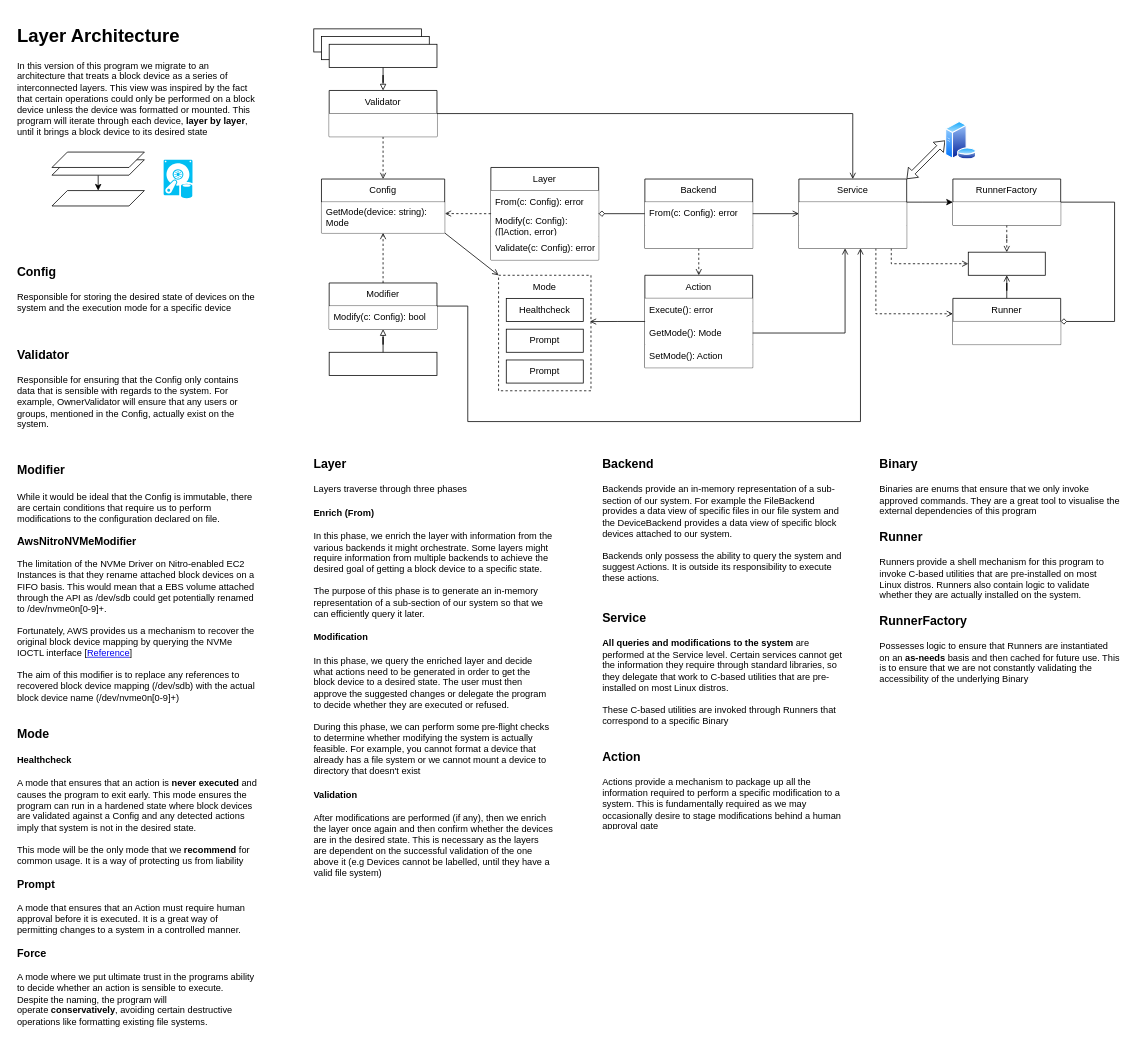
This 1135x1058 diagram has some shape labels left out. Here are the shapes that lost their labels. From the top down, the centre of each, then its label:
At (382,55): "OwnerValidator".
At (383,124): "Validate(c: Config): bool".
At (97,159): "Format".
At (97,198): "Change Owner".
At (852,213): "Get(...): error".
At (1006,213): "Select(b: Binary): Runner".
At (698,236): "Modify(...): Action".
At (852,236): "Set(...): error".
At (1006,263): "Binary".
At (1006,332): "Command(...): error".
At (382,363): "AwsNitroNVMeModifier".
